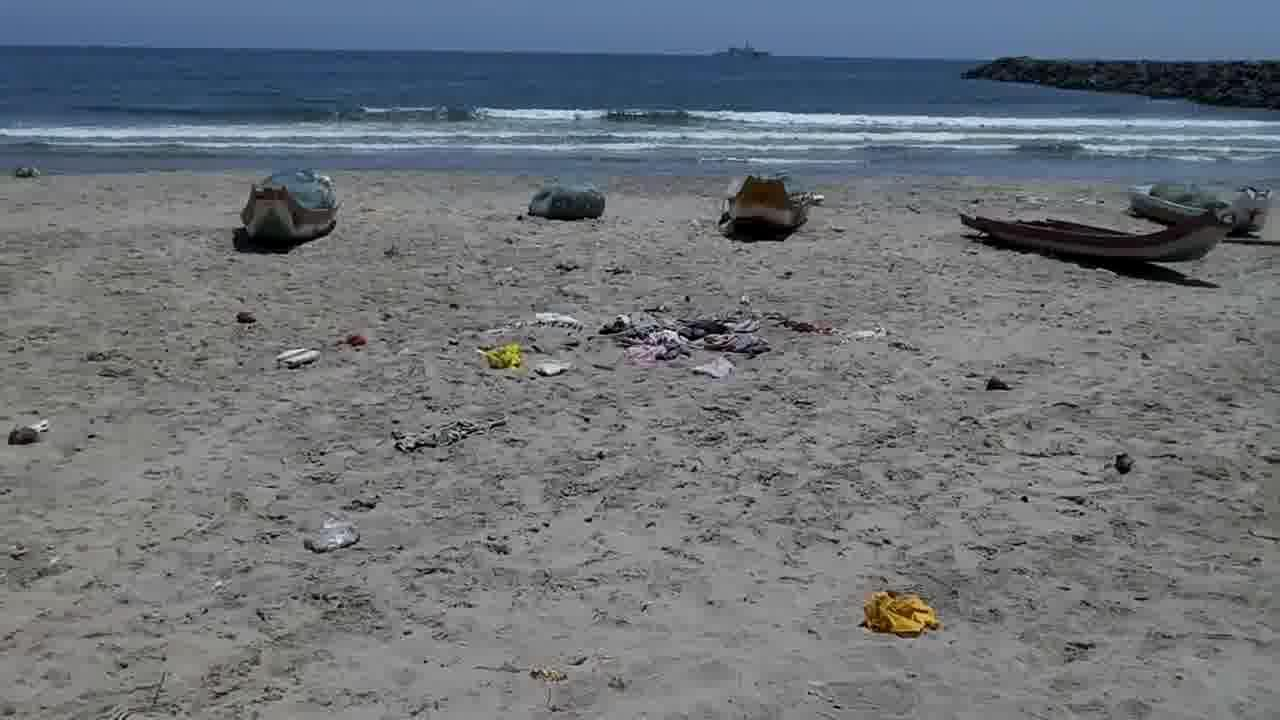large collection of objects: (961, 202, 1262, 268), (238, 172, 340, 253), (721, 175, 819, 243), (1131, 182, 1258, 225), (528, 184, 610, 219)
obj: (596, 290, 775, 380), (390, 411, 514, 462), (855, 584, 950, 642), (303, 499, 383, 558), (774, 312, 896, 349), (270, 344, 332, 373), (0, 415, 57, 446), (477, 342, 530, 373), (532, 309, 586, 332), (1104, 448, 1134, 485), (332, 332, 374, 351), (978, 374, 1011, 395), (531, 362, 573, 378), (227, 312, 260, 328)
sand/background: (0, 0, 1279, 183)
